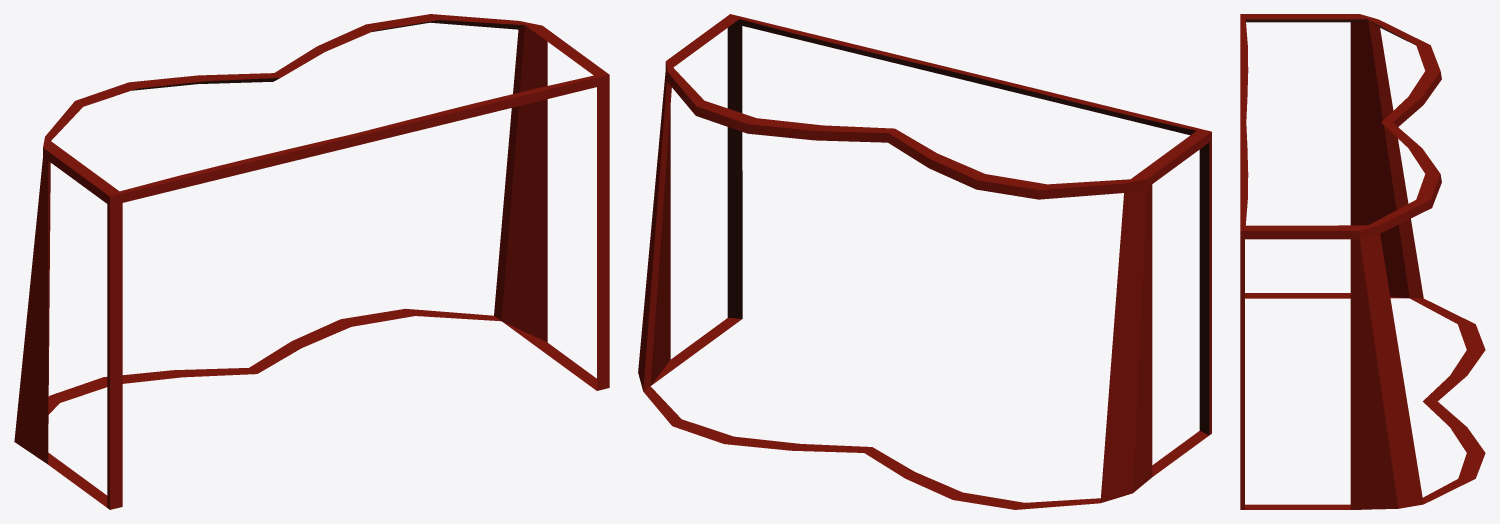
The model's file is goal.fbx.
The picture shows the model from 3 angles, left to right: view 1: azimuth 30°, elevation 25°; view 2: azimuth 150°, elevation 25°; view 3: azimuth 270°, elevation 25°; orthographic projection. The views are drawn at different scales.
Parts seen in each view (by area): view 1: goal; view 2: goal; view 3: goal.
Boxes of the visible parts, x1,y1,x2,y2 form: goal: (14,14,609,509); goal: (638,14,1211,509); goal: (1240,14,1485,509).
Bounding box in the file's own units: 10.23 × 4.75 × 5.97.
